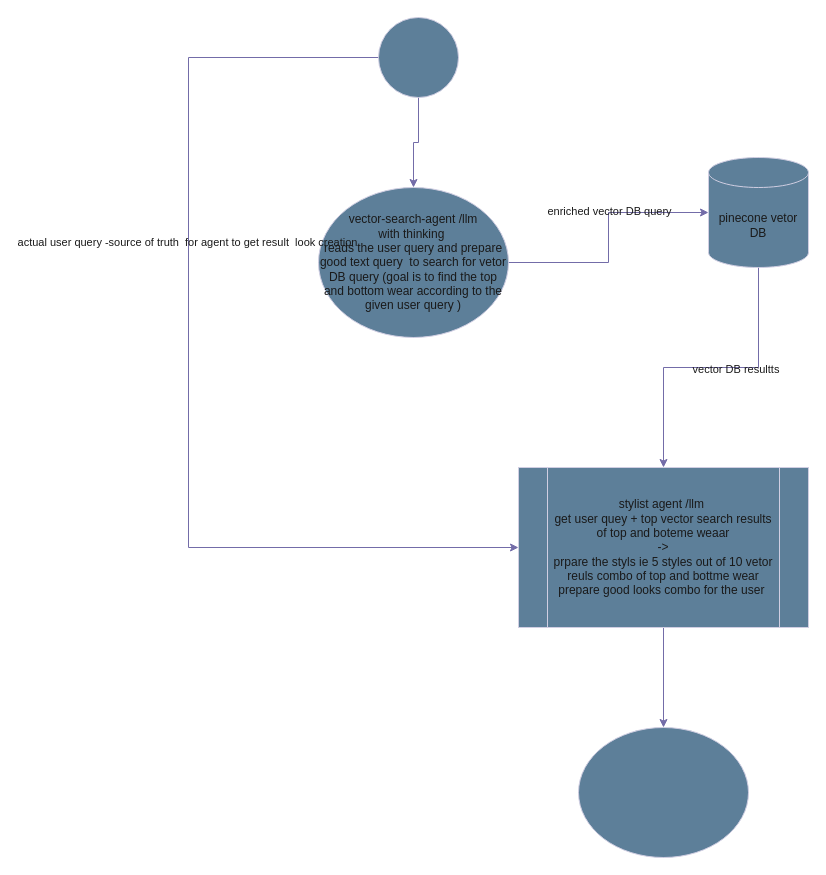
The diagram is 826 pixels wide and 875 high, and some of its shapes have lost their labels. The centre of each missing label's shape, as x and y in pixels:
results of top + bottme war combo for user to have: [663,792]
user input search query: [418,57]
